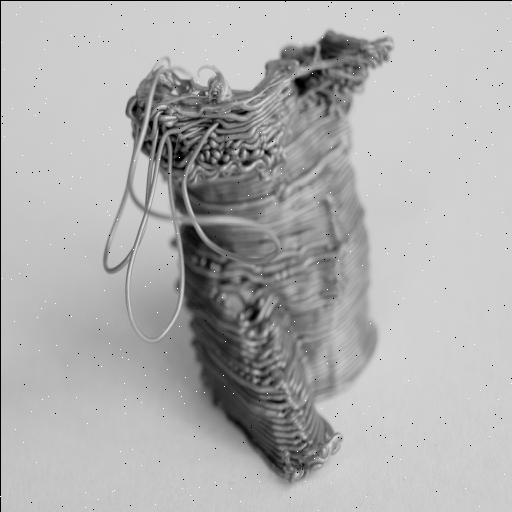spaghetti: (116, 20, 399, 189), (88, 54, 202, 343)
